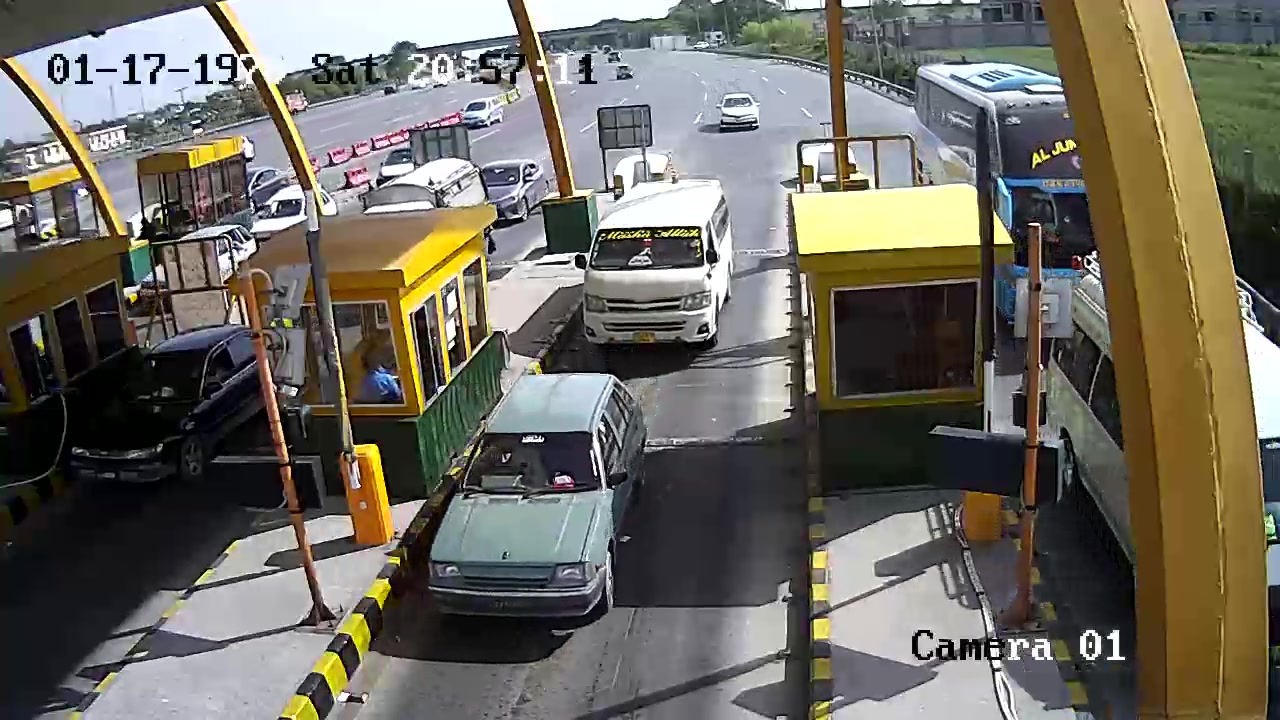F1: (427, 367, 659, 634)
F2: (566, 173, 749, 355)
